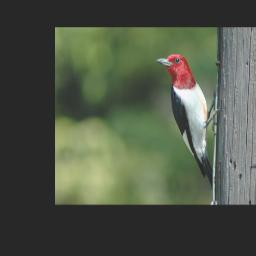Woodpecker: (155, 53, 225, 194)
